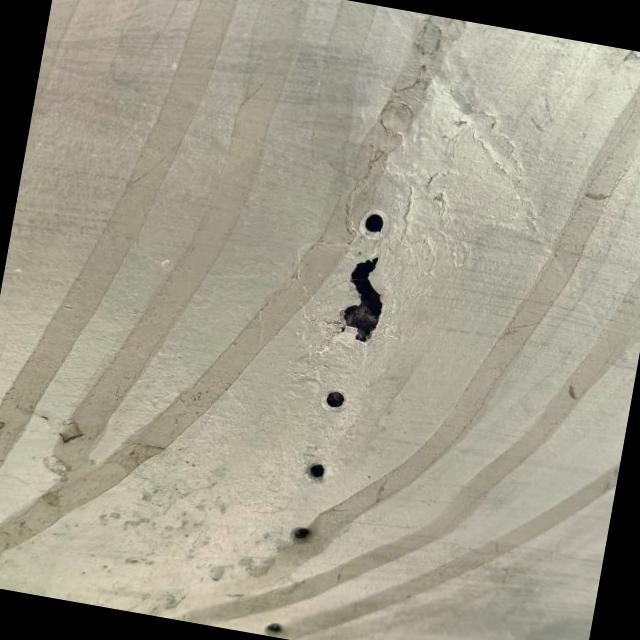crack: (306, 226, 423, 371)
